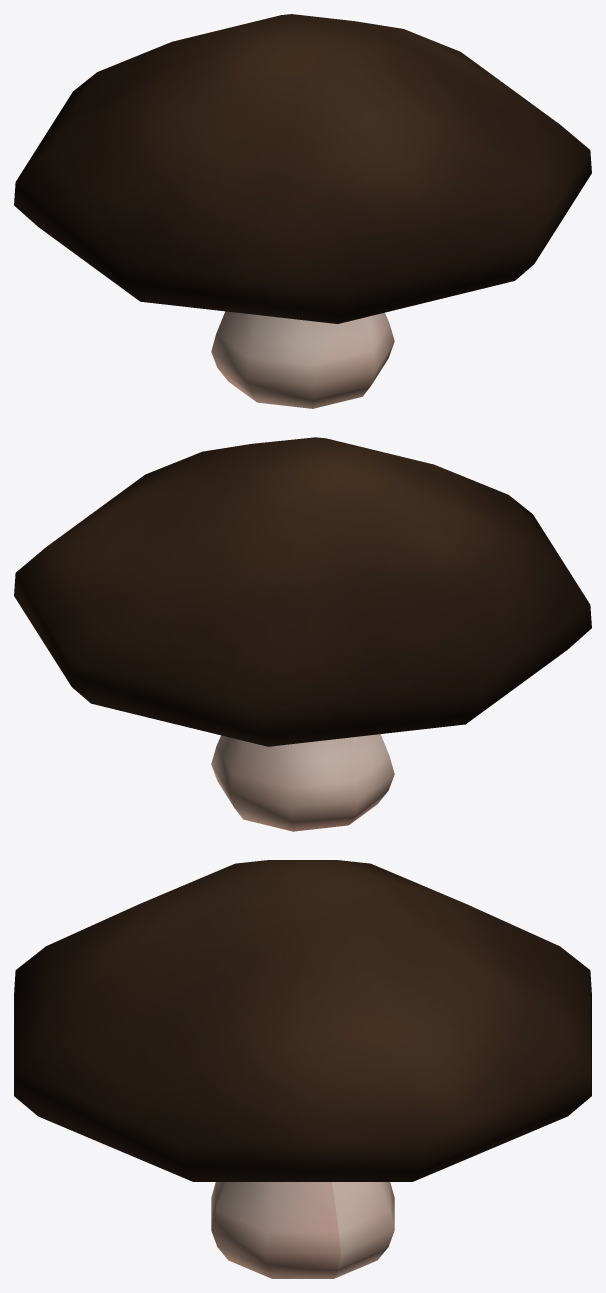
Rendered from fungo1.fbx.
The picture shows the model from 3 angles, top to bottom: view 1: azimuth 30°, elevation 25°; view 2: azimuth 150°, elevation 25°; view 3: azimuth 270°, elevation 25°; orthographic projection. The views are drawn at different scales.
Parts seen in each view (by area): view 1: fungo1; view 2: fungo1; view 3: fungo1.
Boxes of the visible parts, left/top/right/bottom form: fungo1: left=14, top=14, right=591, bottom=408; fungo1: left=14, top=437, right=591, bottom=831; fungo1: left=14, top=860, right=591, bottom=1278.
Size of the model in its own units: 3.35 by 2.35 by 3.35.
